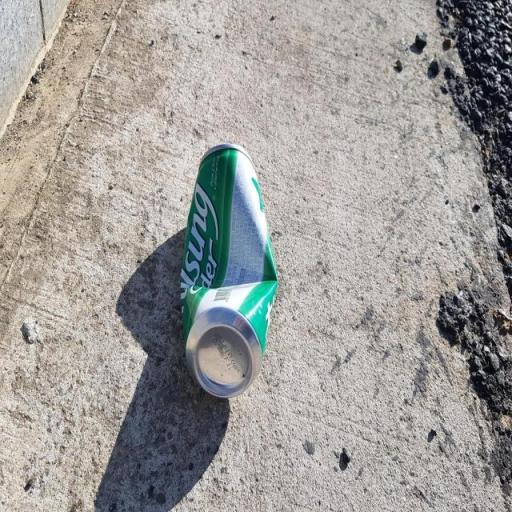metal: (125, 95, 328, 431)
